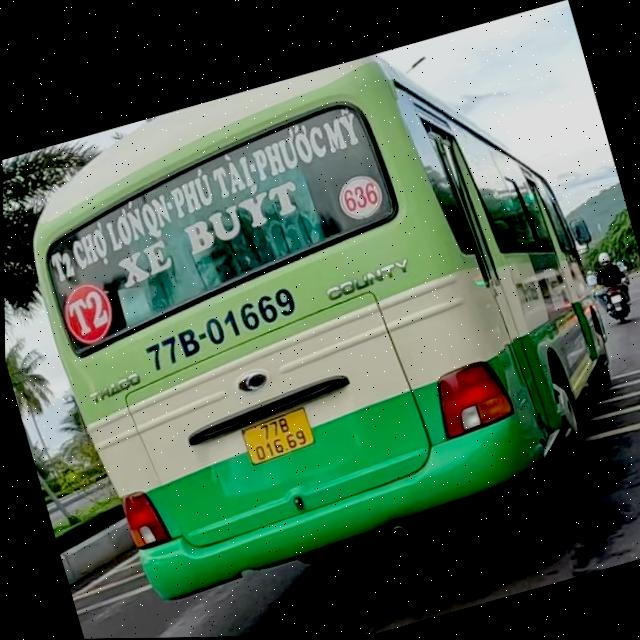car: (0, 11, 640, 622)
motorcycle: (599, 280, 638, 326)
plate: (232, 398, 330, 469)
